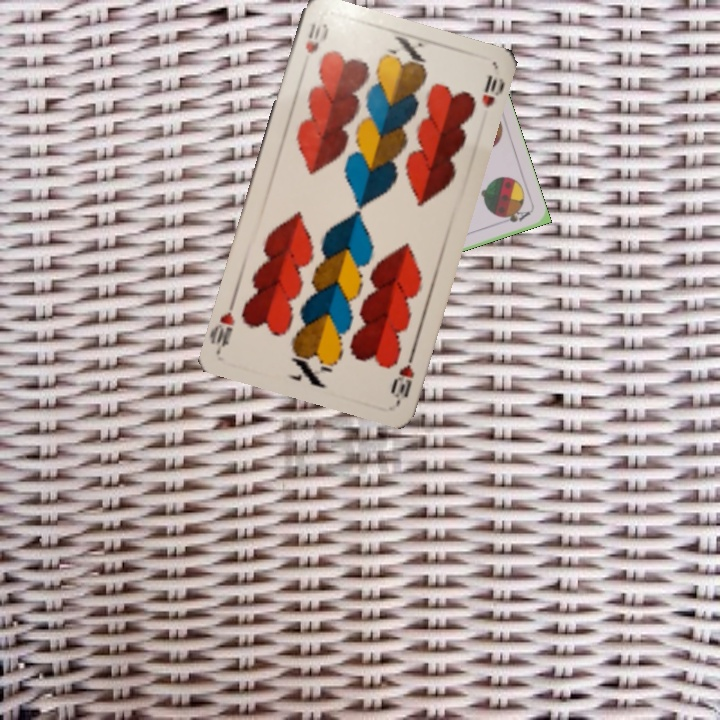H10: (386, 346, 417, 404), (301, 18, 329, 56)
